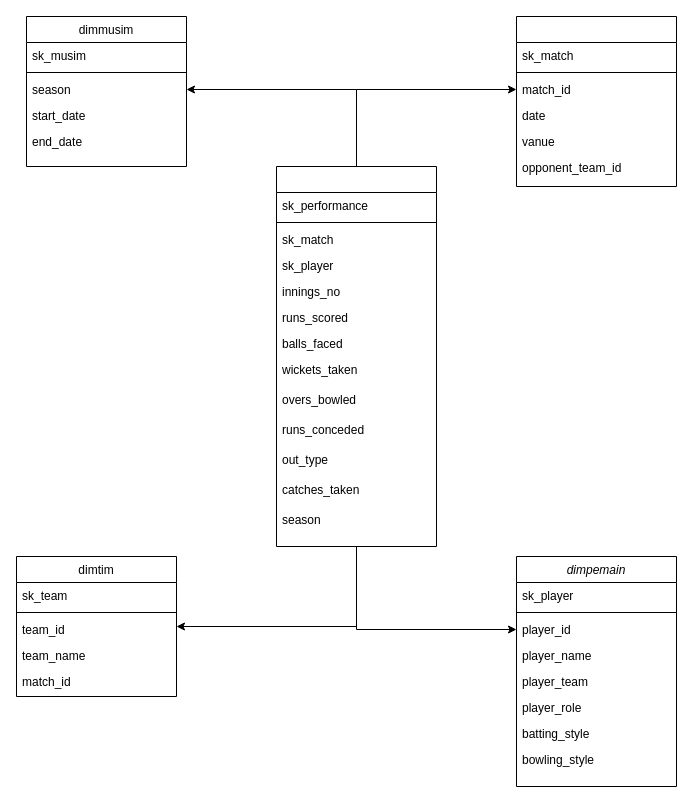
Image size: 693x803. Some labels were removed from this diagram. Here are the shapes that lost their labels. From the top down, the box of each, then its label:
(516, 16, 676, 186): dimpertandingan
(276, 166, 436, 546): factperform
